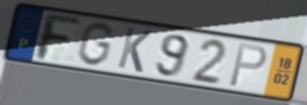2: (189, 37, 230, 87)
9: (154, 33, 192, 78)
F: (35, 11, 83, 63)
G: (74, 21, 117, 68)
K: (115, 25, 155, 75)
P: (226, 42, 269, 89)
